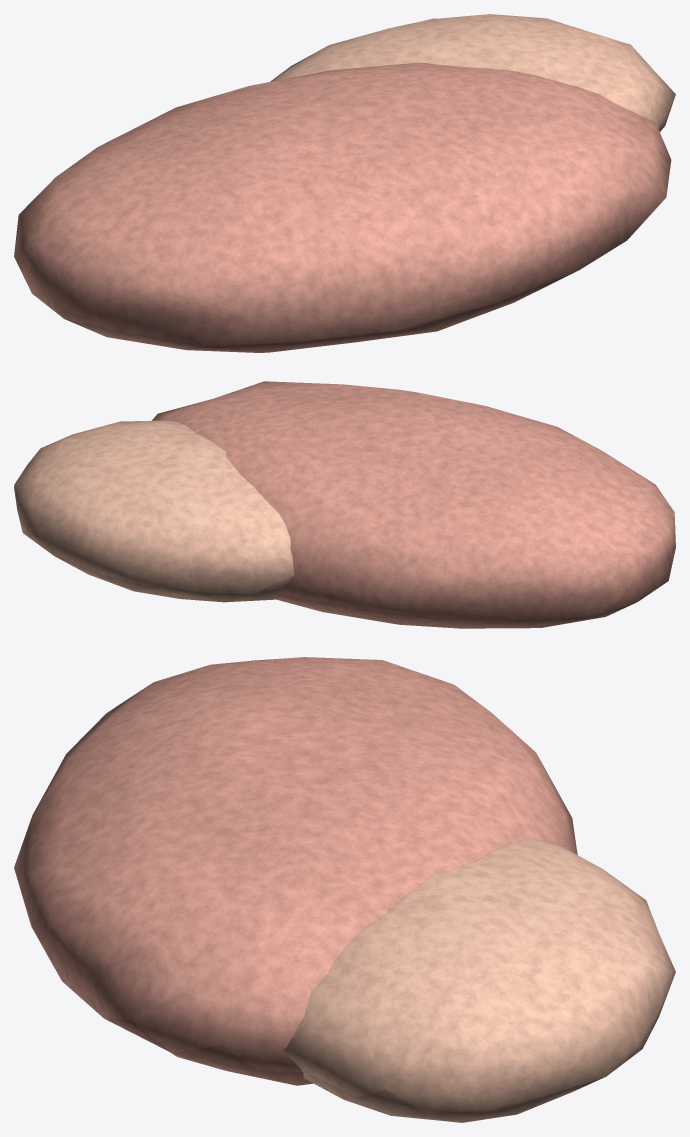
File: sd_rose_dune.glb
3 renders of one model, top to bottom at view 1: azimuth 30°, elevation 25°; view 2: azimuth 150°, elevation 25°; view 3: azimuth 270°, elevation 25°, orthographic. The views are drawn at different scales.
Visible parts, largest first — view 1: sd_rose_dune; view 2: sd_rose_dune; view 3: sd_rose_dune.
Part boxes in pixels (bbox=[...]): sd_rose_dune: bbox=[14, 14, 675, 352]; sd_rose_dune: bbox=[14, 381, 675, 628]; sd_rose_dune: bbox=[14, 657, 675, 1122].
Size of the model in its own units: 30.49 by 8.09 by 21.36.
Materials: 2 (2 with a texture image).
